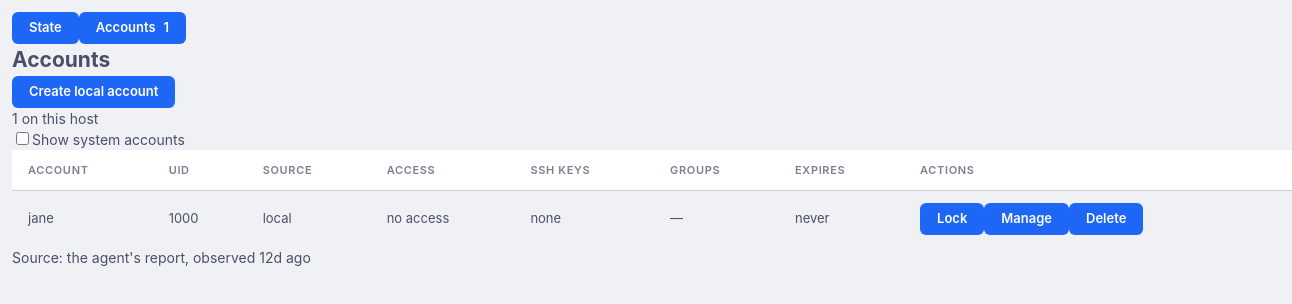
Scenario: a host's accounts › posts the lock the server expects, with the registry's payload
What coordinates should you click on to do the following:
click the button with test id "lock-jane"
I would click on:
 (952, 219)
Its box is [920, 203, 984, 235].
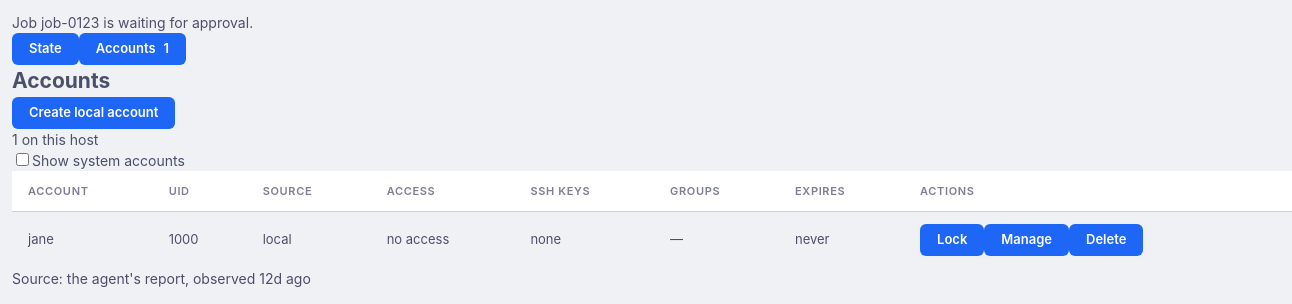
Expected: the text "Job job-0123 is waiting for approval." is shown, [12, 14, 253, 31]
